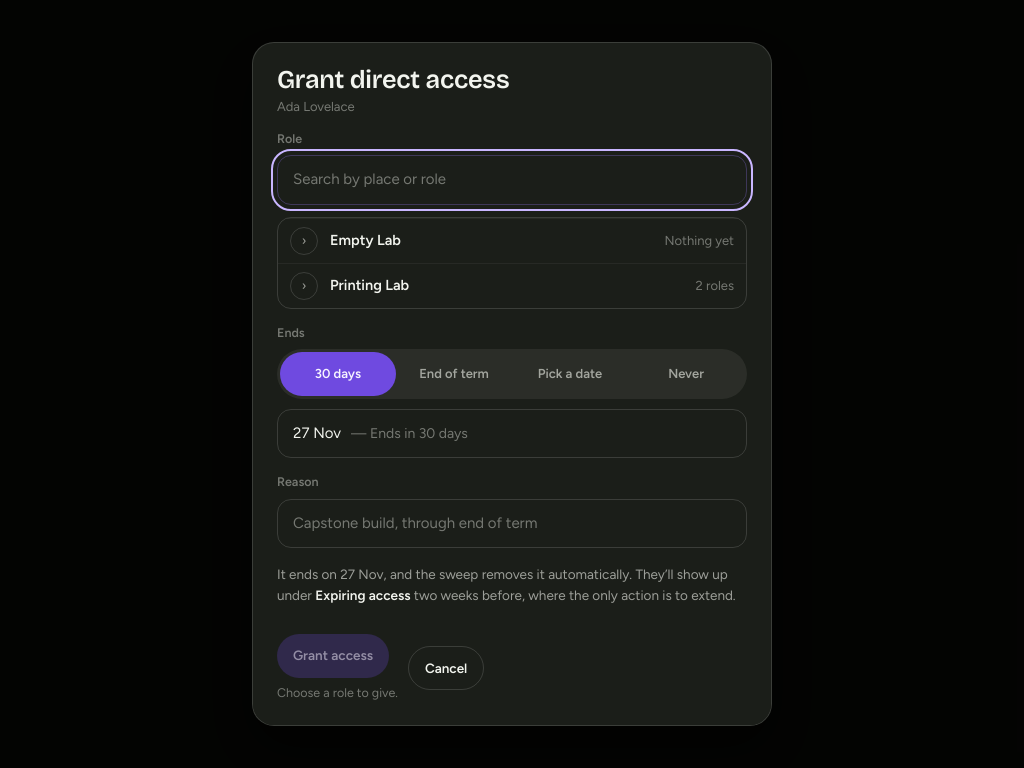
Test: GrantDirectAccess · choosing the role › says a role already held with no end changes nothing, and will not send it
The width and height of the screenshot is (1024, 768).
Click the button "› Printing Lab 2 roles".
click(370, 285)  # box [278,264,746,308]
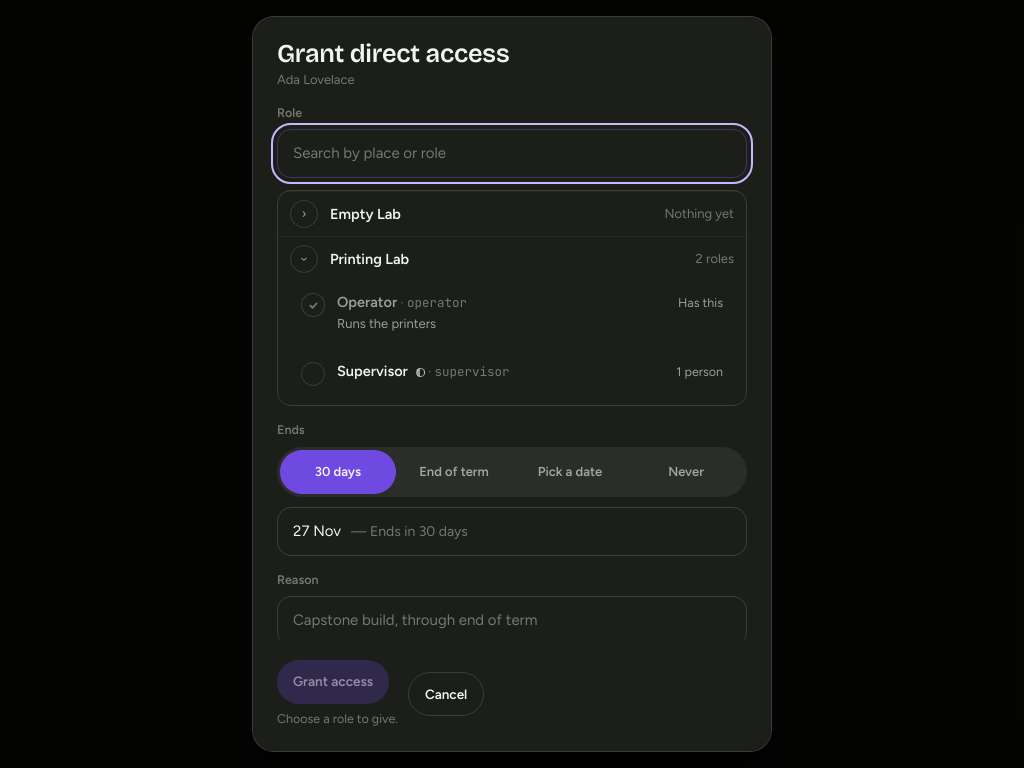
Expected: the button "Grant access" is disabled, [277,660,389,704]
Expected: the text "Has this" is shown, [678,294,723,312]
Expected: the radio button labelled "Operator · operator Runs the printers Has this" is disabled, [301,293,723,330]
